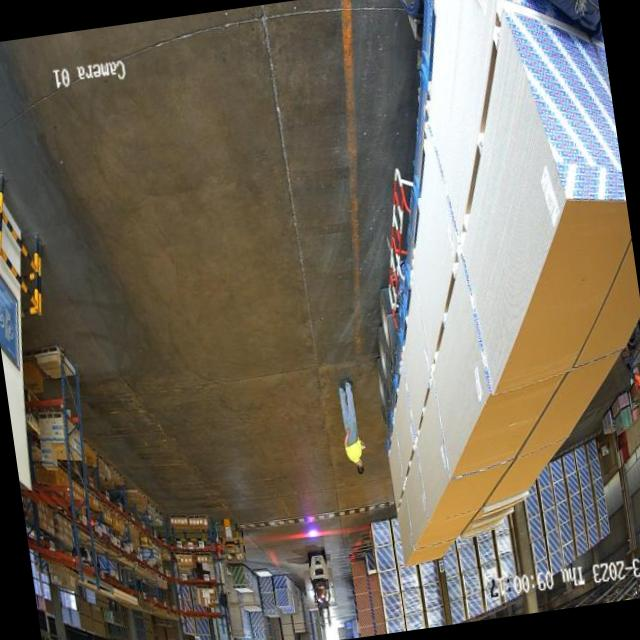person: (335, 378, 372, 484)
